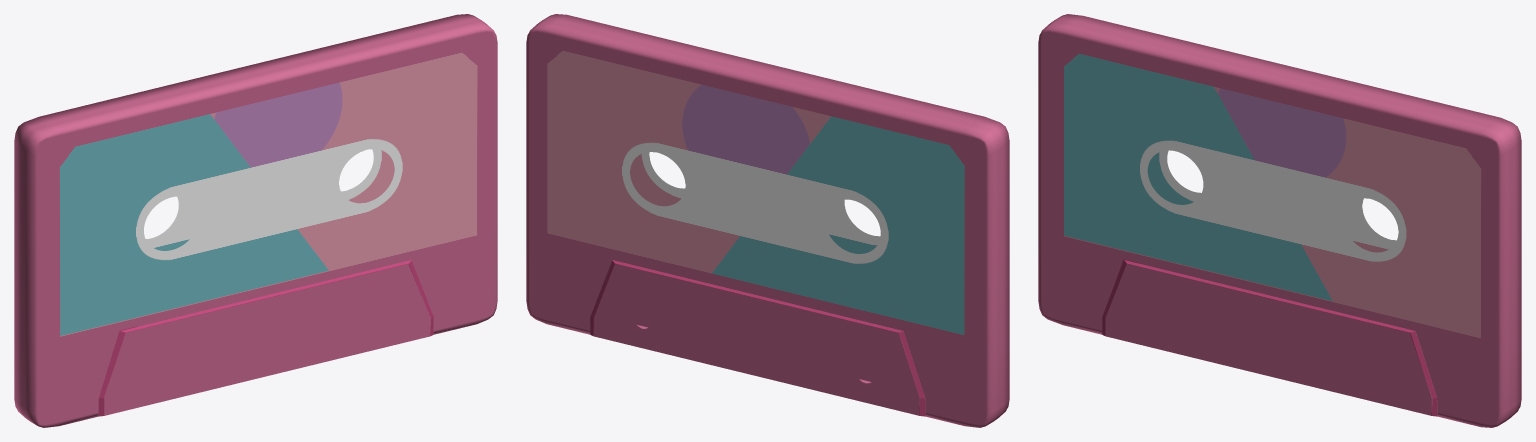
File: Cassette.FBX
3 renders of one model, left to right at view 1: azimuth 30°, elevation 25°; view 2: azimuth 150°, elevation 25°; view 3: azimuth 330°, elevation 25°, orthographic.
Visible parts, largest first — view 1: Box001; view 2: Box001; view 3: Box001.
Part boxes in pixels (box(x1,y1,x2,y2)): Box001: box(14, 14, 497, 427); Box001: box(526, 14, 1009, 427); Box001: box(1038, 14, 1521, 427).
Bounding box in the file's own units: 242 × 146 × 20.46.
1 material, 1 textured.
